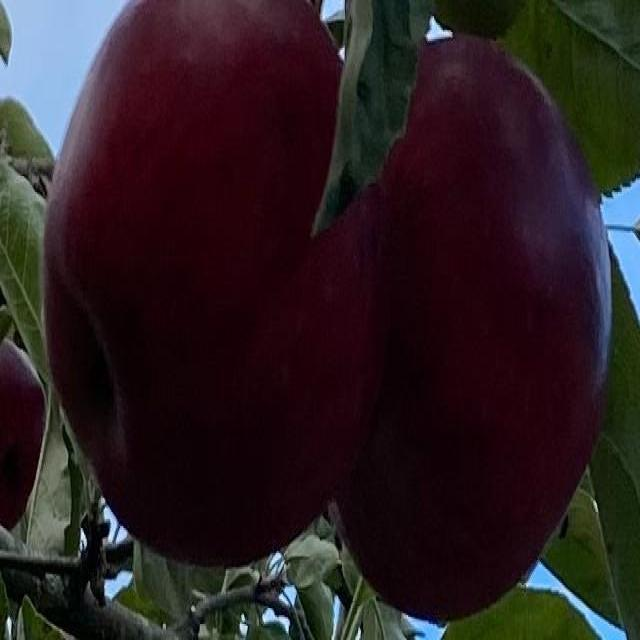Rotten Apple: (45, 0, 391, 565), (332, 37, 614, 624), (0, 336, 47, 530)
